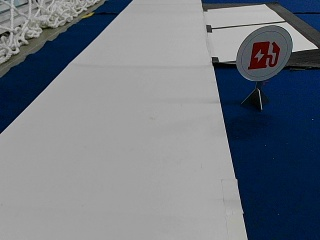battery: (236, 24, 291, 80)
